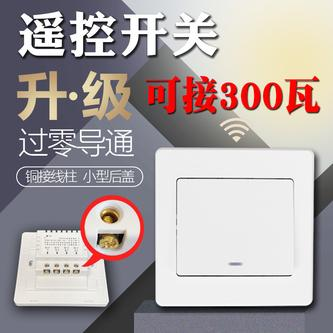switch: (173, 168, 301, 282)
